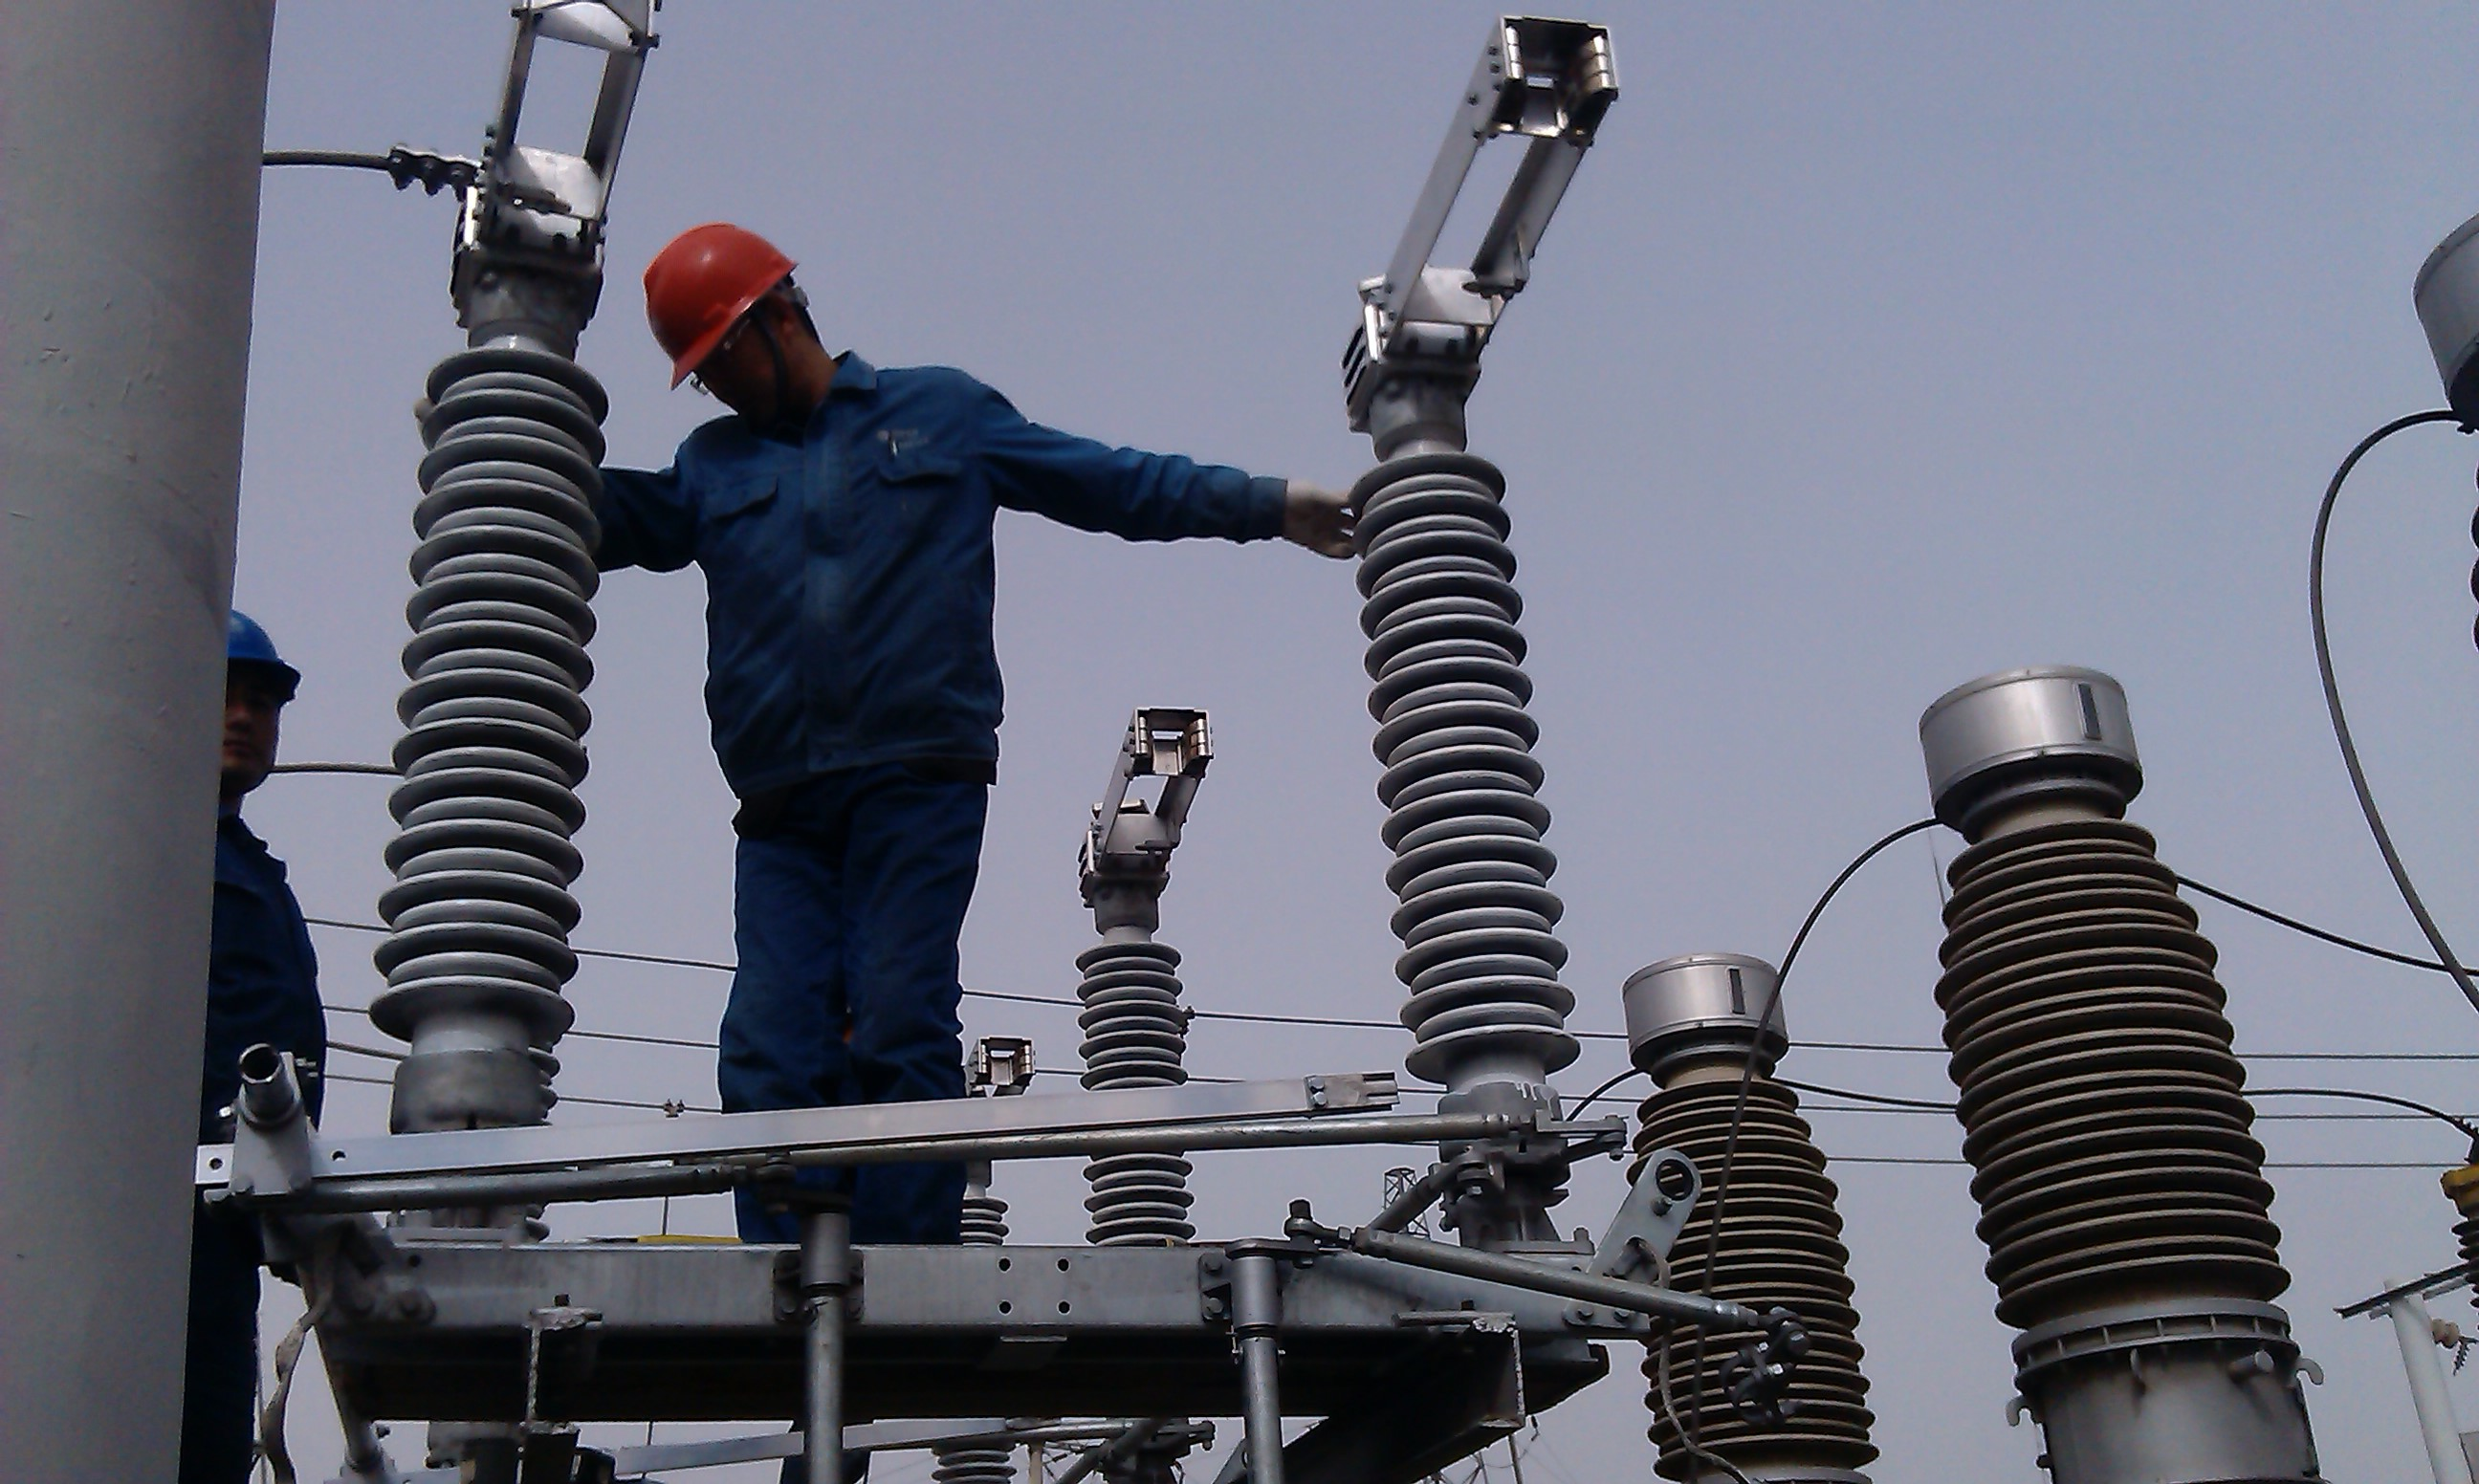hat: (641, 214, 834, 424)
